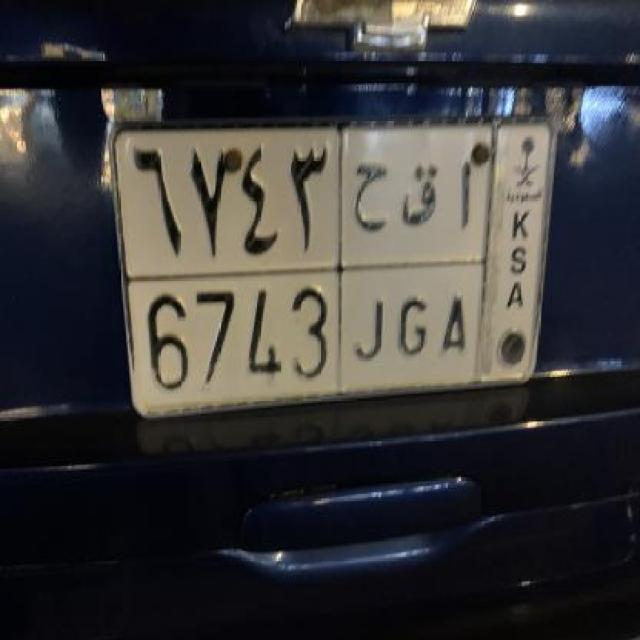license_plate: (103, 109, 563, 428)
